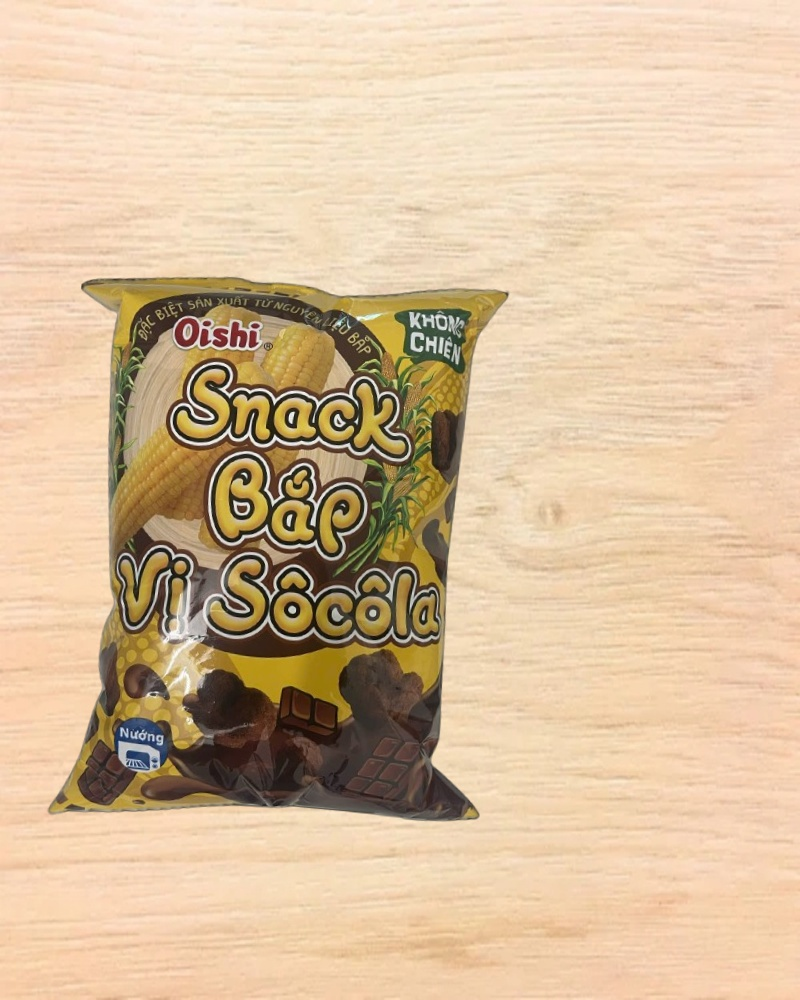Snack socola: (39, 259, 525, 840)
